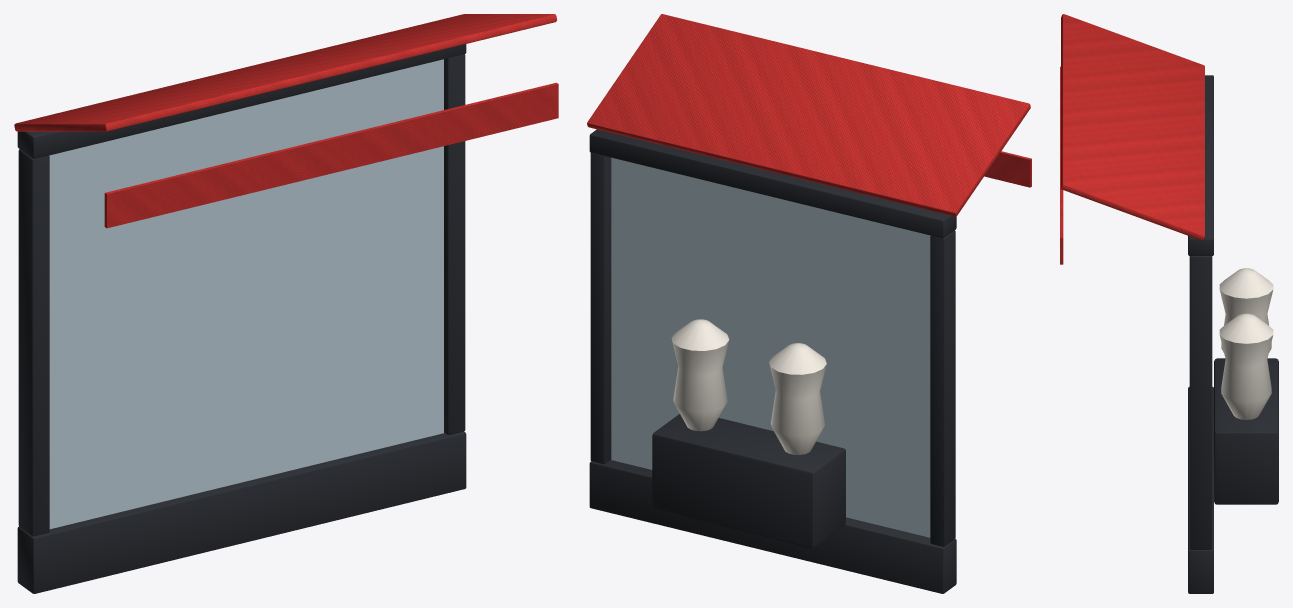
Rendered from fachada-vitrine-22.glb.
3 views of the same model, side by side, from view 1: azimuth 30°, elevation 25°; view 2: azimuth 150°, elevation 25°; view 3: azimuth 270°, elevation 25° (orthographic). The views are drawn at different scales.
Parts seen in each view (by area): view 1: vidro, soleira, sanefa, toldo, coluna, coluna.001, verga; view 2: vidro, toldo, expositor, soleira, verga, coluna, coluna.001, busto.001, busto, sanefa; view 3: toldo, coluna.001, expositor, busto.001, busto, verga, soleira, sanefa.
Boxes of the visible parts, left/top/right/bottom form: vidro: left=49, top=59, right=443, bottom=529; soleira: left=17, top=431, right=466, bottom=593; sanefa: left=104, top=82, right=558, bottom=228; toldo: left=14, top=14, right=556, bottom=131; coluna: left=18, top=149, right=49, bottom=536; coluna.001: left=444, top=54, right=465, bottom=434; verga: left=17, top=44, right=466, bottom=158; vidro: left=611, top=157, right=930, bottom=537; toldo: left=587, top=14, right=1030, bottom=216; expositor: left=652, top=414, right=845, bottom=547; soleira: left=589, top=459, right=956, bottom=593; verga: left=589, top=129, right=956, bottom=238; coluna: left=930, top=230, right=955, bottom=546; coluna.001: left=590, top=152, right=611, bottom=463; busto.001: left=671, top=319, right=729, bottom=431; busto: left=769, top=343, right=826, bottom=454; sanefa: left=984, top=151, right=1031, bottom=187; toldo: left=1061, top=14, right=1204, bottom=240; coluna.001: left=1189, top=256, right=1212, bottom=549; expositor: left=1214, top=358, right=1278, bottom=504; busto.001: left=1219, top=313, right=1273, bottom=419; busto: left=1219, top=268, right=1273, bottom=352; verga: left=1188, top=75, right=1213, bottom=255; soleira: left=1188, top=387, right=1213, bottom=593; sanefa: left=1060, top=66, right=1063, bottom=264.
Bounding box in the file's own units: 2.5 × 2.81 × 1.35.
Materials: 4 (1 with a texture image).
